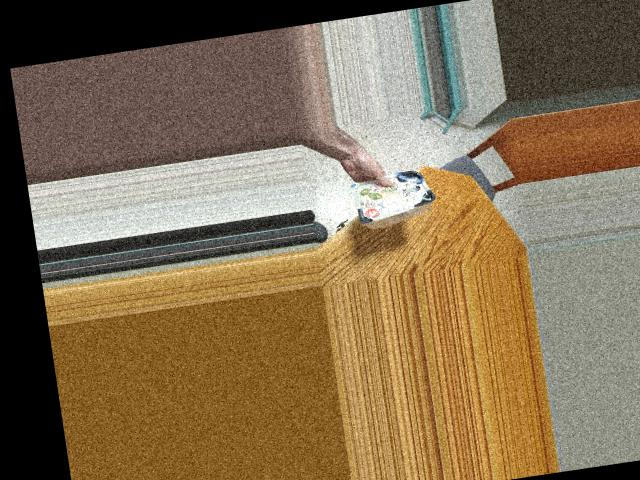cheese: (352, 160, 433, 226)
